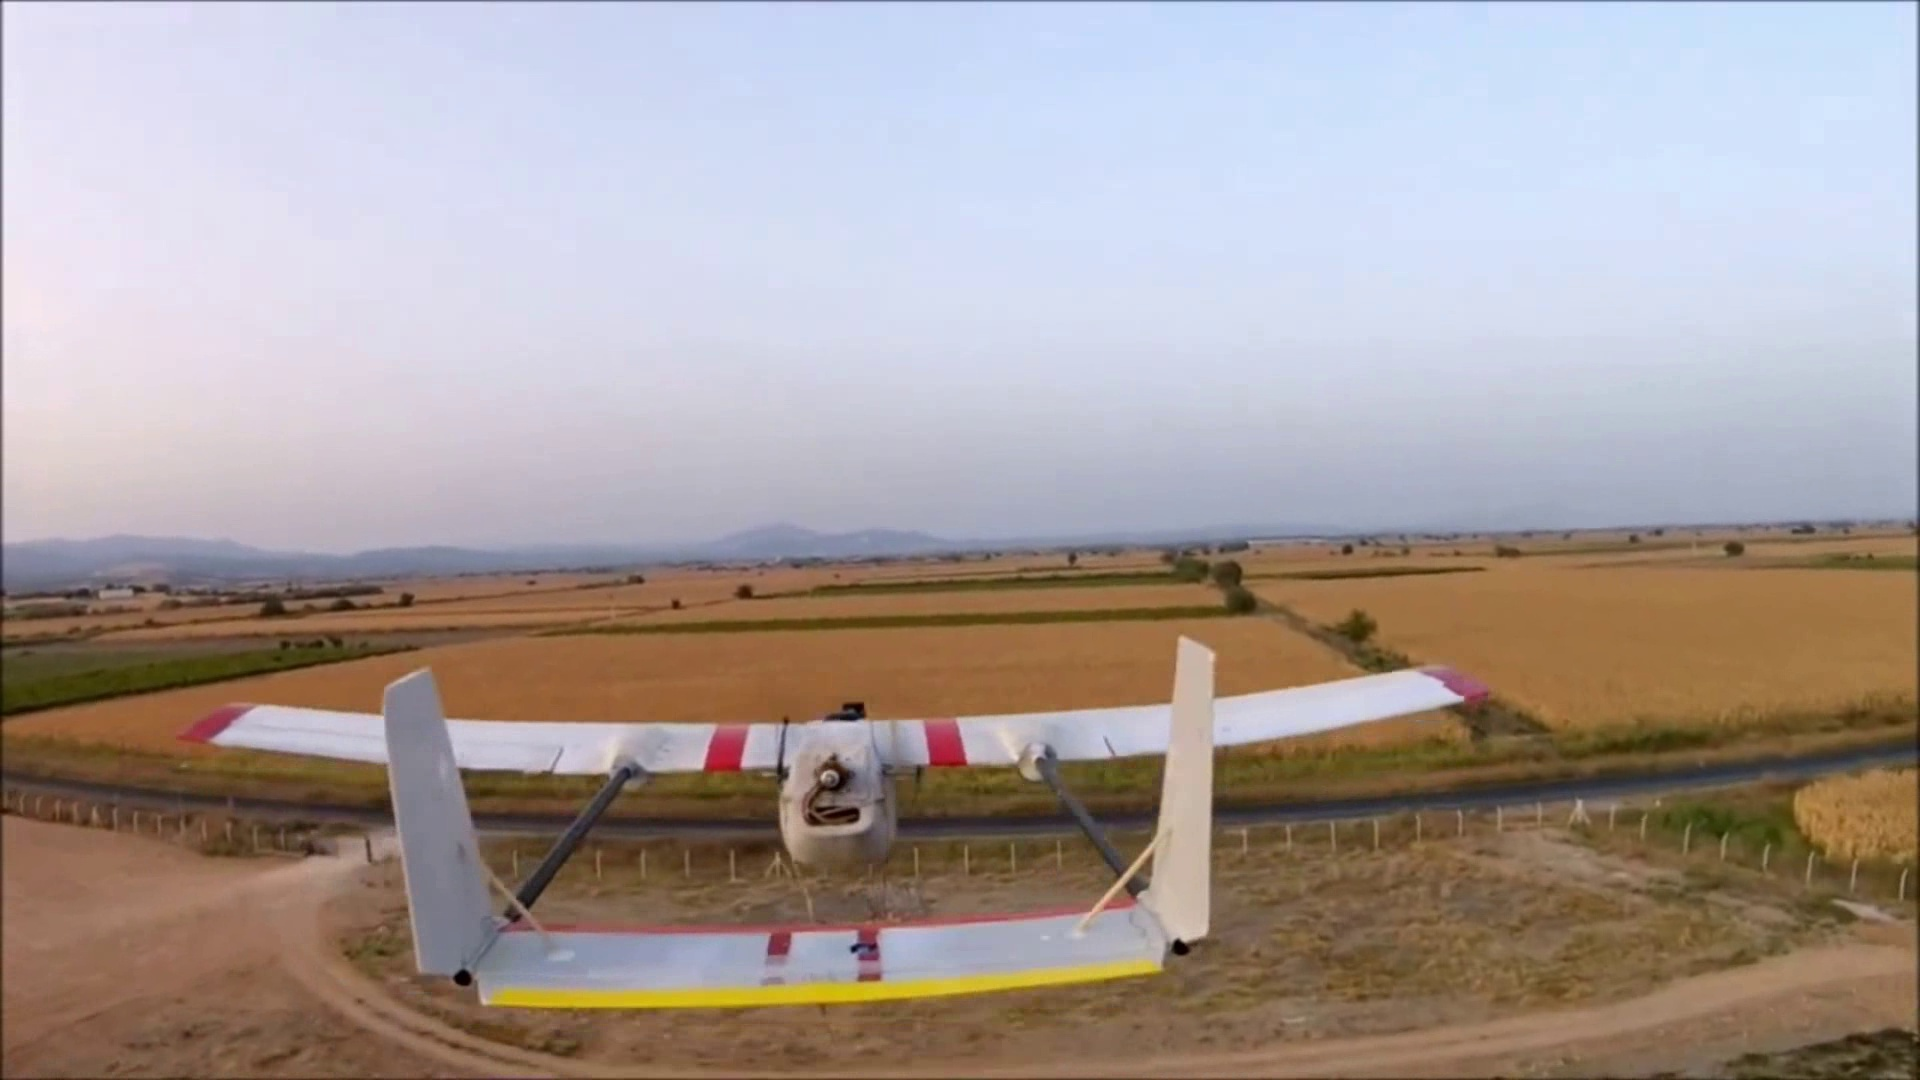airplane: (61, 623, 1493, 1015)
